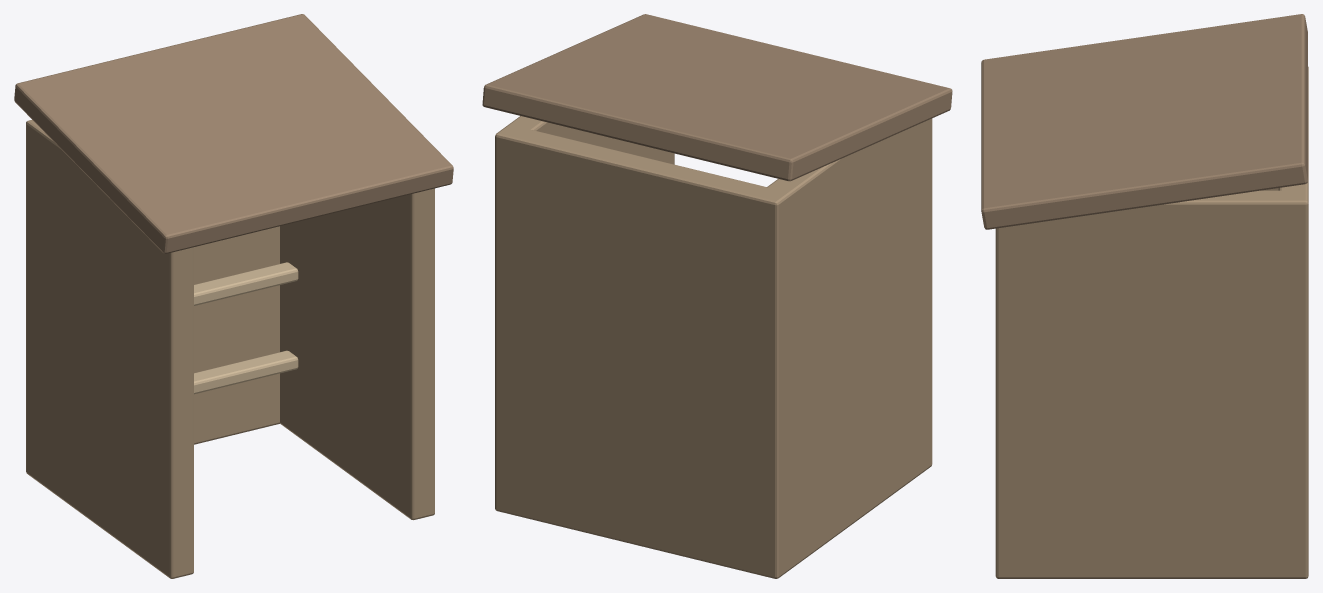
The model's file is toolshed.glb.
3 renders of one model, left to right at view 1: azimuth 30°, elevation 25°; view 2: azimuth 150°, elevation 25°; view 3: azimuth 270°, elevation 25°, orthographic. The views are drawn at different scales.
Visible parts, largest first — view 1: back; view 2: back; view 3: back.
Part boxes in pixels (bbox=[...]): back: bbox=[14, 14, 453, 578]; back: bbox=[482, 14, 952, 578]; back: bbox=[981, 14, 1308, 578].
Bounding box in the file's own units: 1.2 × 1.56 × 1.1.
